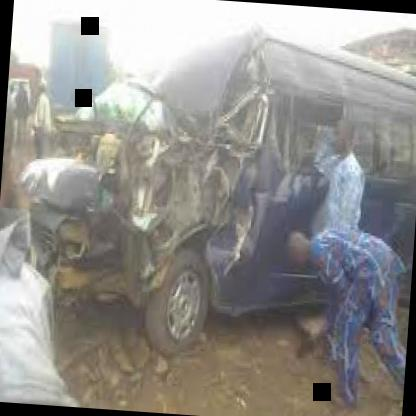accident: (37, 12, 416, 362)
